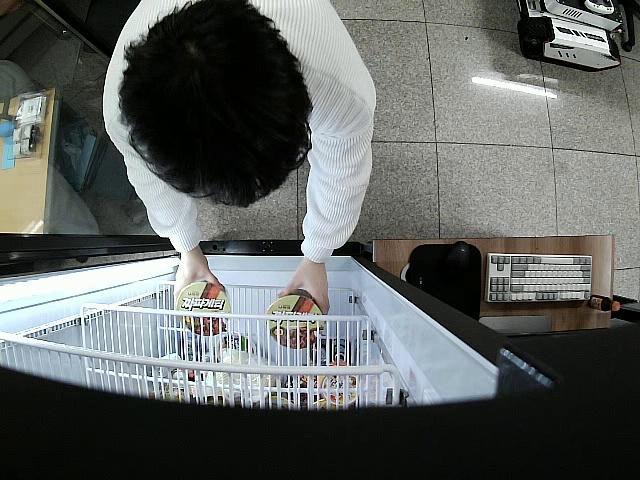00_hand: (276, 262, 329, 318), (174, 255, 225, 309)
03_chapagetti_L: (267, 290, 325, 349), (177, 281, 231, 335)
